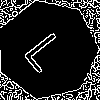L: (22, 25, 76, 75)
